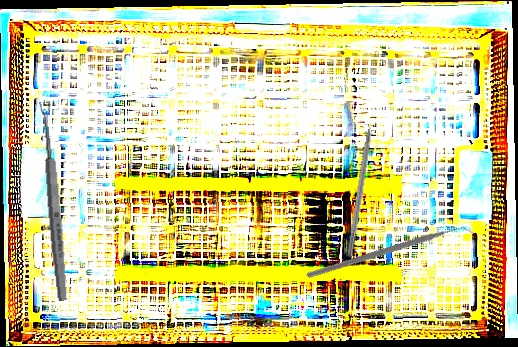Chopper: (305, 167, 477, 343)
Hook Surgical: (346, 108, 378, 258)
Surgical Spoon: (38, 100, 70, 302)
